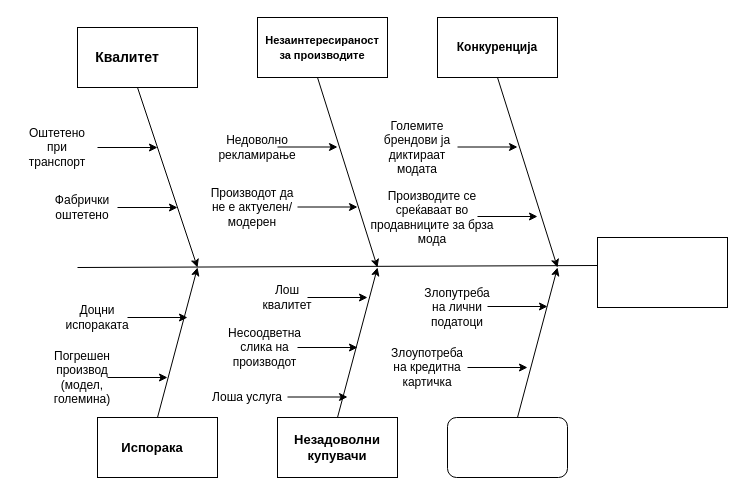
Image size: 745x495. Some labels were removed from this diagram. Each missing label, with the box of its shape:
Веб продавница за винтиџ облека: (596, 236, 728, 308)
Приватност: (446, 416, 568, 478)
